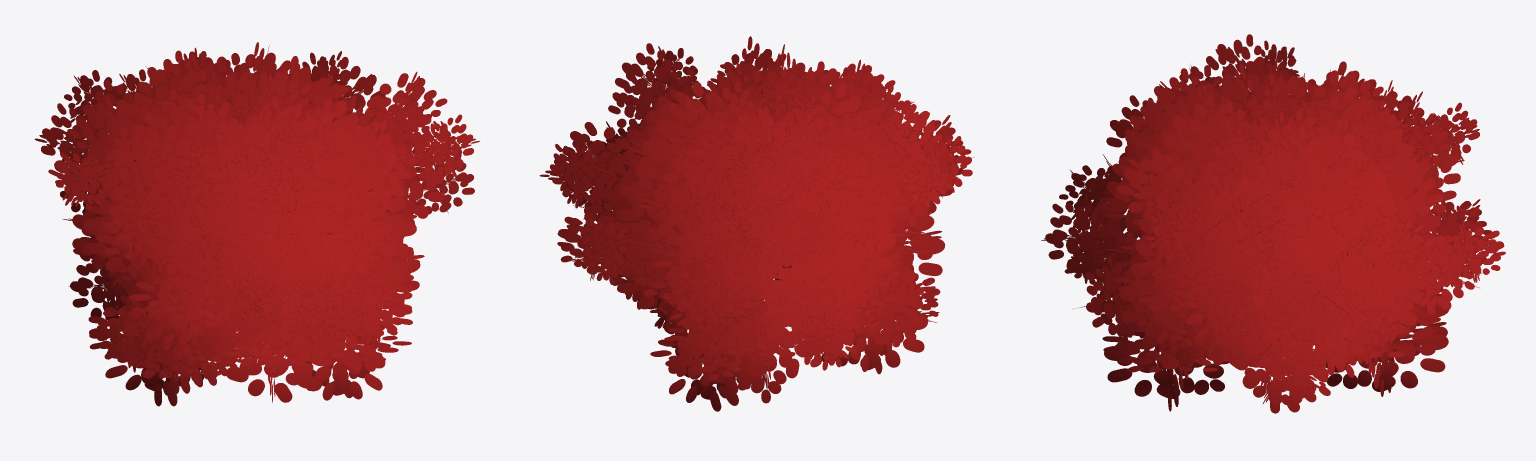
File: Bush_Common.gltf
3 renders of one model, left to right at view 1: azimuth 30°, elevation 25°; view 2: azimuth 150°, elevation 25°; view 3: azimuth 270°, elevation 25°, orthographic. The views are drawn at different scales.
Visible parts, largest first — view 1: Bush_Common; view 2: Bush_Common; view 3: Bush_Common.
Boxes of the visible parts, bbox=[...] form: Bush_Common: bbox=[34, 42, 479, 406]; Bush_Common: bbox=[539, 36, 974, 411]; Bush_Common: bbox=[1041, 34, 1505, 413].
Bounding box in the file's own units: 1.91 × 1.58 × 1.97.
Materials: 1 (1 with a texture image).
